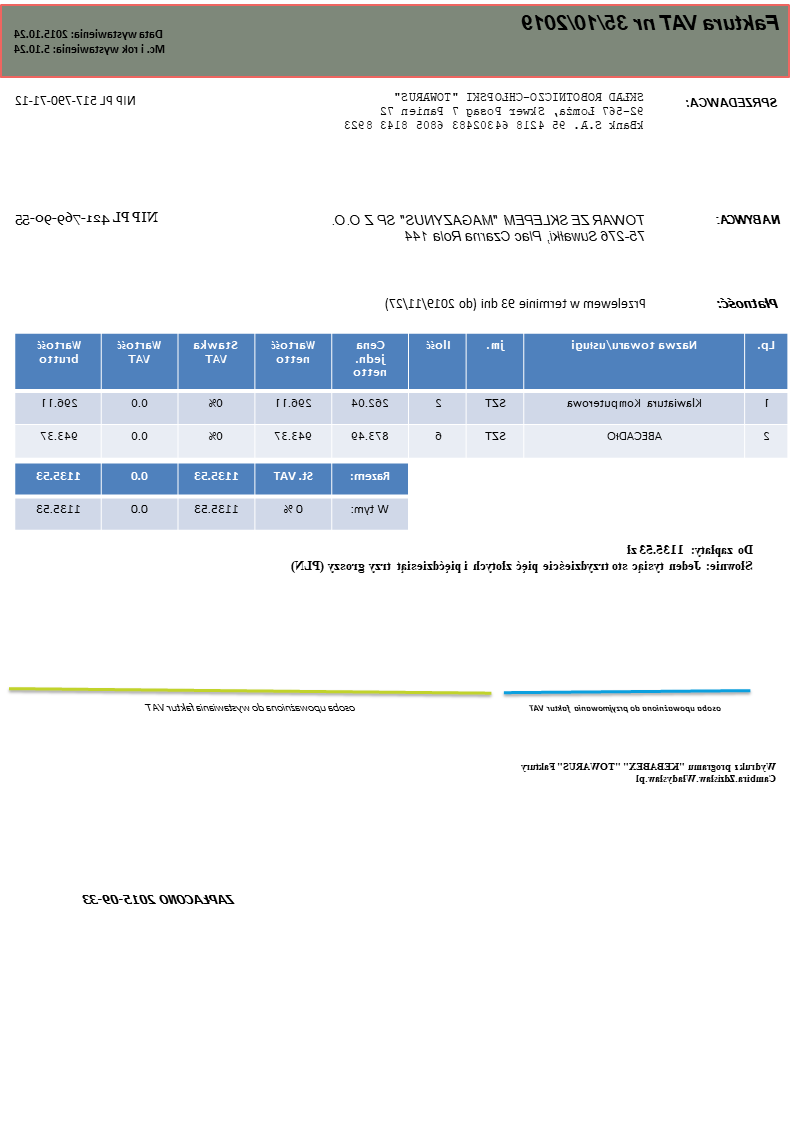Table: (14, 332, 789, 459), (13, 461, 410, 531)
TextBox: (287, 540, 757, 576), (343, 89, 647, 132), (326, 211, 648, 245), (517, 759, 780, 786), (519, 11, 782, 34), (11, 27, 168, 56), (385, 295, 648, 311), (141, 700, 358, 714), (13, 208, 160, 228), (81, 890, 237, 907), (527, 702, 724, 714), (13, 91, 139, 109), (684, 94, 780, 111), (716, 211, 783, 228), (715, 295, 780, 311)
